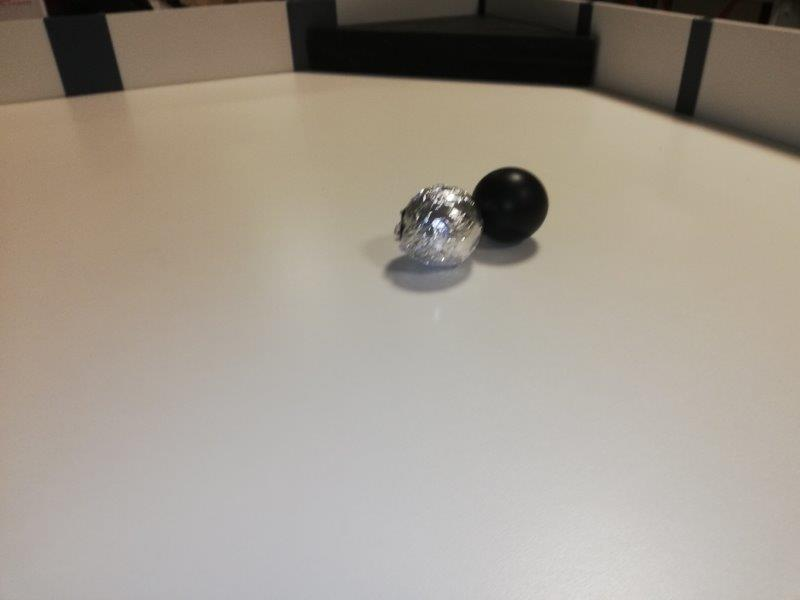bianca: (395, 185, 482, 269)
nera: (475, 167, 549, 245)
